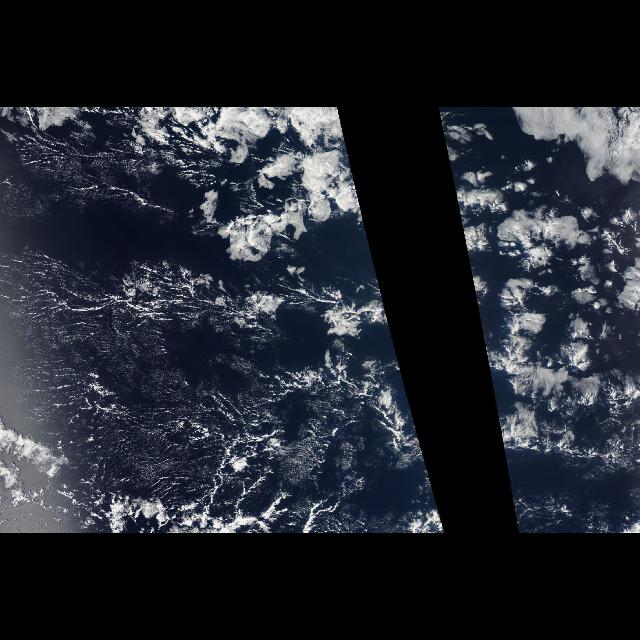Flower: (441, 113, 639, 473), (100, 108, 364, 276)
Gravel: (5, 277, 389, 527)
Sugar: (5, 259, 233, 517)
